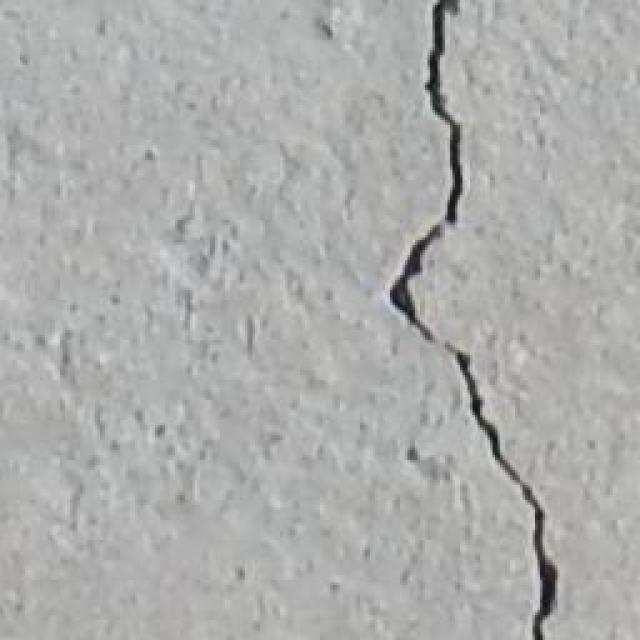concrete-crack: (388, 0, 560, 640)
